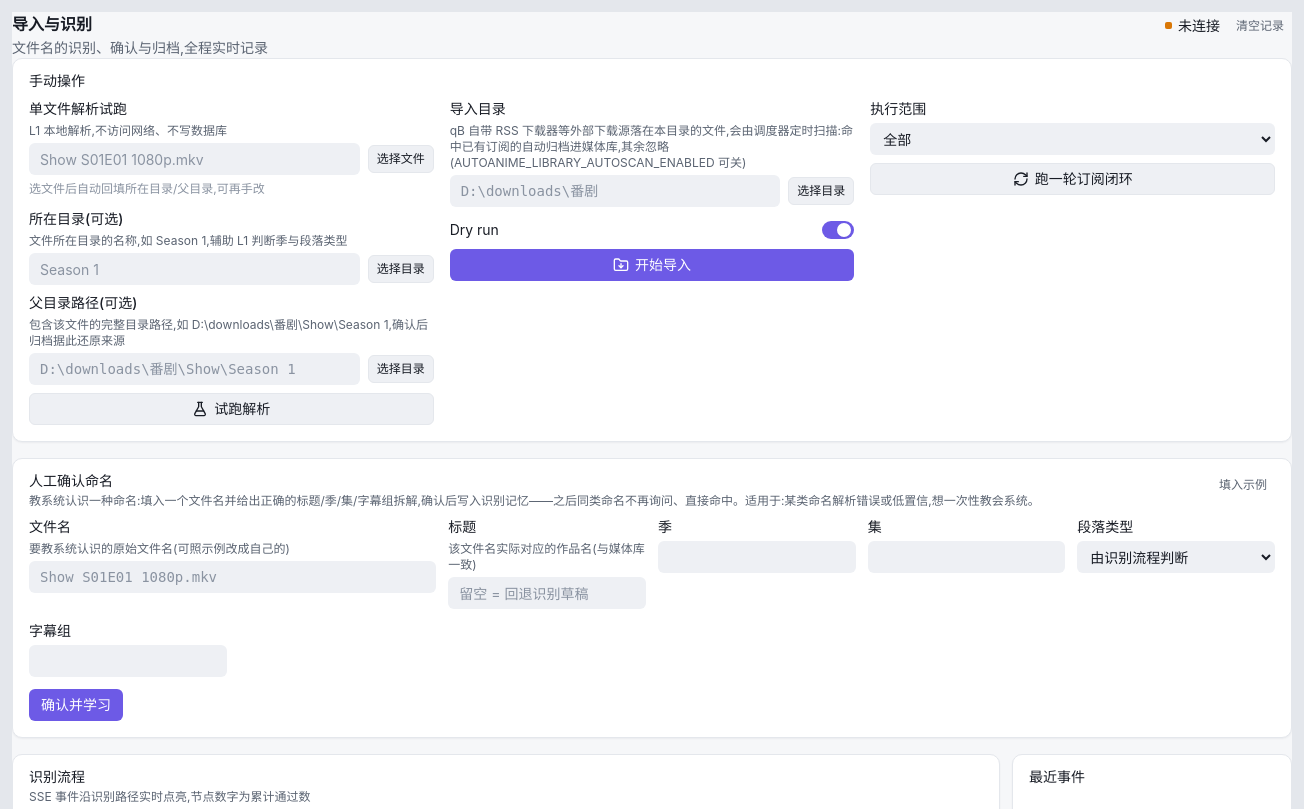
Test: PipelinePage › 异步导入展示任务进度和完成摘要
The width and height of the screenshot is (1304, 809).
In the field labelled "导入目录": (615, 191) x1=450 y1=175 x2=780 y2=207, type "D:/downloads"
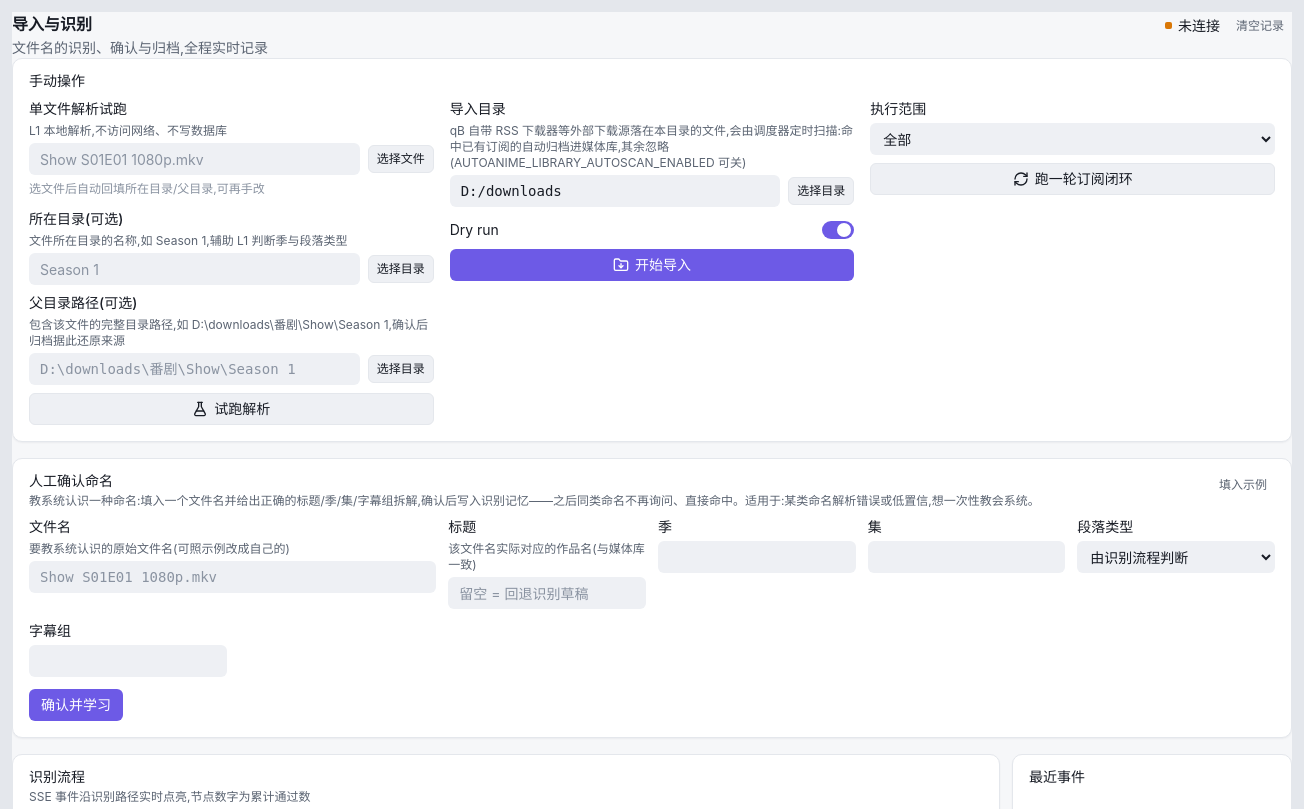
Click the button "开始导入": (652, 265) x1=450 y1=249 x2=854 y2=281
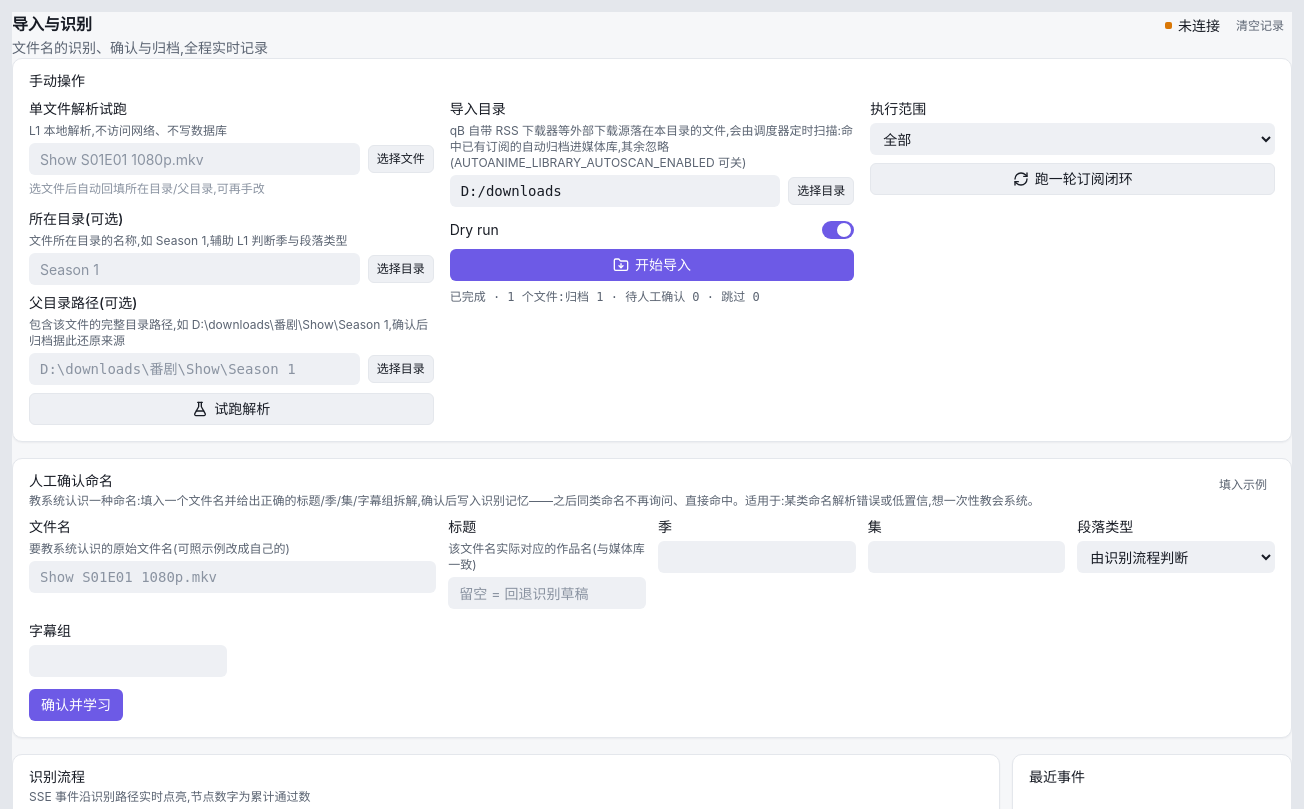
Now the text "已完成 · 1 个文件:归档 1 · 待人工确认 0 · 跳过 0" is shown, box x1=450 y1=290 x2=760 y2=304
